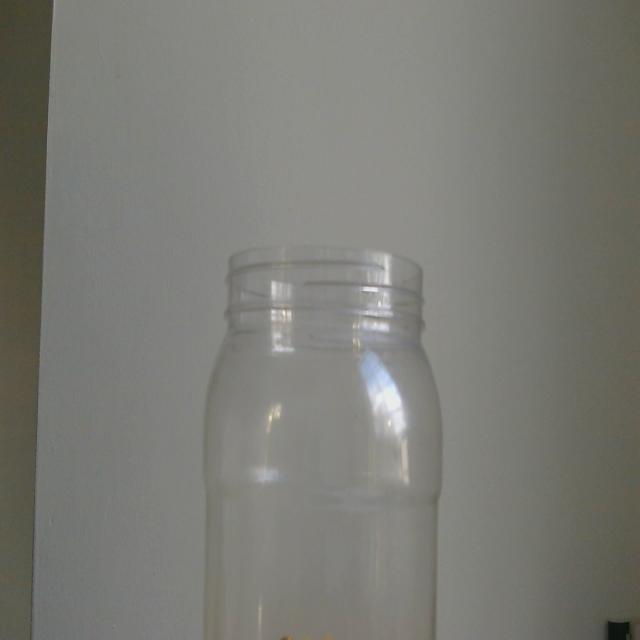missing_cap: (217, 240, 435, 337)
